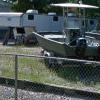Boat: (28, 22, 100, 66)
